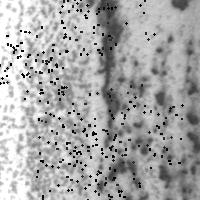pitted_surface: (1, 1, 93, 198), (114, 36, 199, 161), (121, 104, 181, 163), (66, 124, 124, 183), (96, 1, 123, 127), (0, 25, 56, 82), (12, 45, 65, 101), (59, 0, 115, 53), (38, 110, 92, 164), (69, 145, 122, 199), (98, 144, 150, 196), (94, 84, 141, 139), (38, 86, 96, 130), (97, 0, 153, 39), (25, 160, 75, 200)
